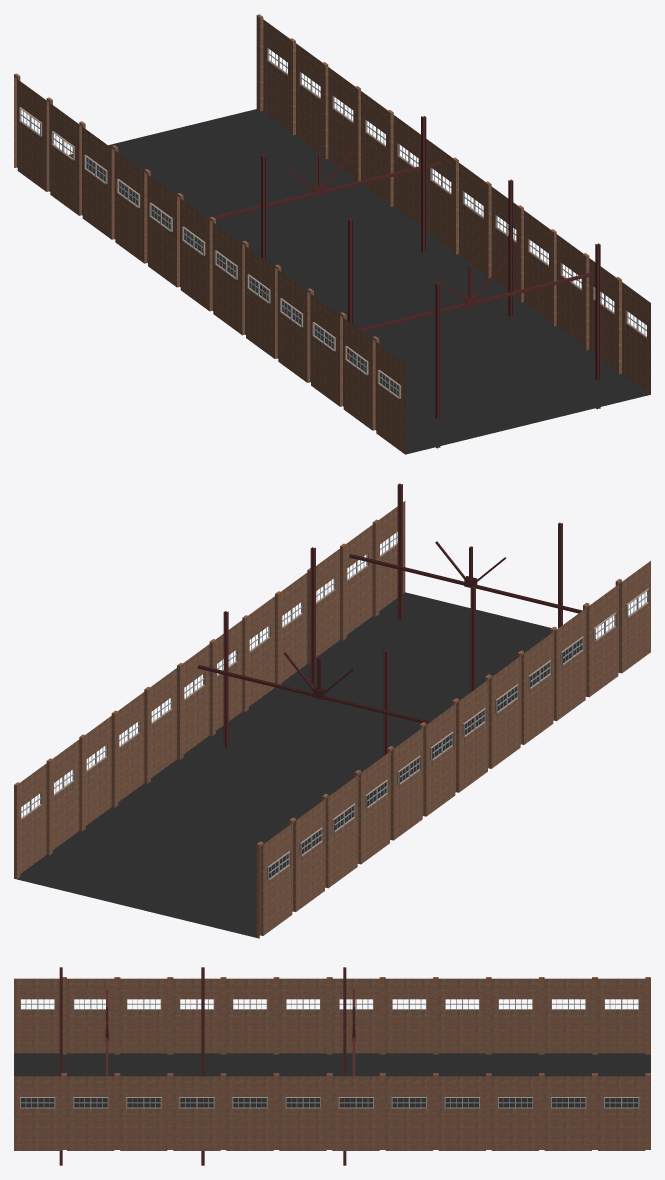
The model's file is Fabrik.glb.
3 renders of one model, top to bottom at view 1: azimuth 30°, elevation 25°; view 2: azimuth 150°, elevation 25°; view 3: azimuth 270°, elevation 25°, orthographic. The views are drawn at different scales.
Visible parts, largest first — view 1: Fabrik, Cube, Cube.004; view 2: Fabrik, Cube, Cube.004; view 3: Fabrik, Cube, Cube.004.
Boxes of the visible parts, x1,y1,x2,y2 form: Fabrik: (14,14,650,454); Cube: (261,116,600,448); Cube.004: (207,149,592,331); Fabrik: (14,501,650,938); Cube: (223,483,562,786); Cube.004: (197,541,582,724); Fabrik: (14,977,650,1150); Cube: (59,967,346,1165); Cube.004: (105,989,355,1076).
Size of the model in its own units: 42.47 by 26.57 by 115.
Materials: 5 (1 with a texture image).
